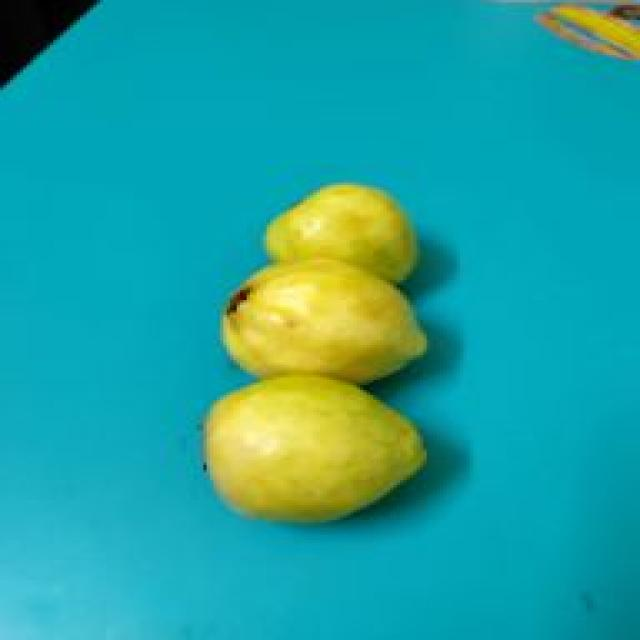Good_Guava: (203, 372, 430, 528), (220, 258, 430, 388), (267, 182, 420, 288)
